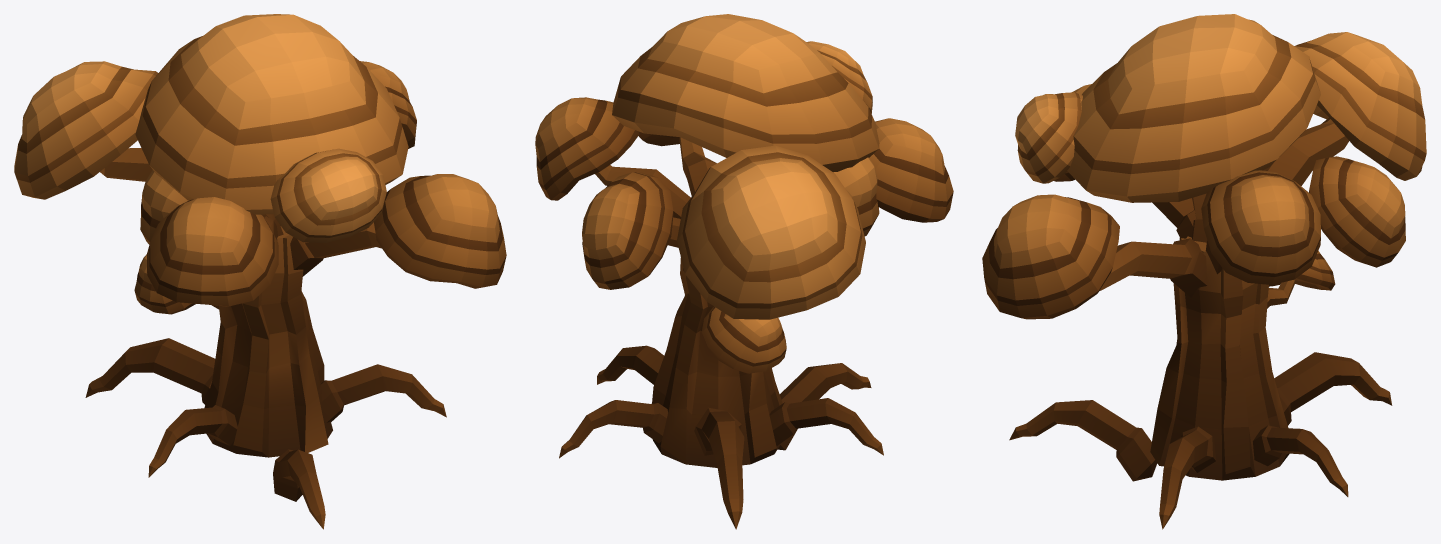
Rendered from Tree_Large_F.fbx.
3 views of the same model, side by side, from view 1: azimuth 30°, elevation 25°; view 2: azimuth 150°, elevation 25°; view 3: azimuth 270°, elevation 25° (orthographic). The views are drawn at different scales.
Parts seen in each view (by area): view 1: Tree_Large_F; view 2: Tree_Large_F; view 3: Tree_Large_F.
Part boxes in pixels (bbox=[...]): Tree_Large_F: bbox=[14, 14, 506, 529]; Tree_Large_F: bbox=[535, 14, 953, 529]; Tree_Large_F: bbox=[982, 14, 1426, 529].
Bounding box in the file's own units: 231 × 286 × 251.
